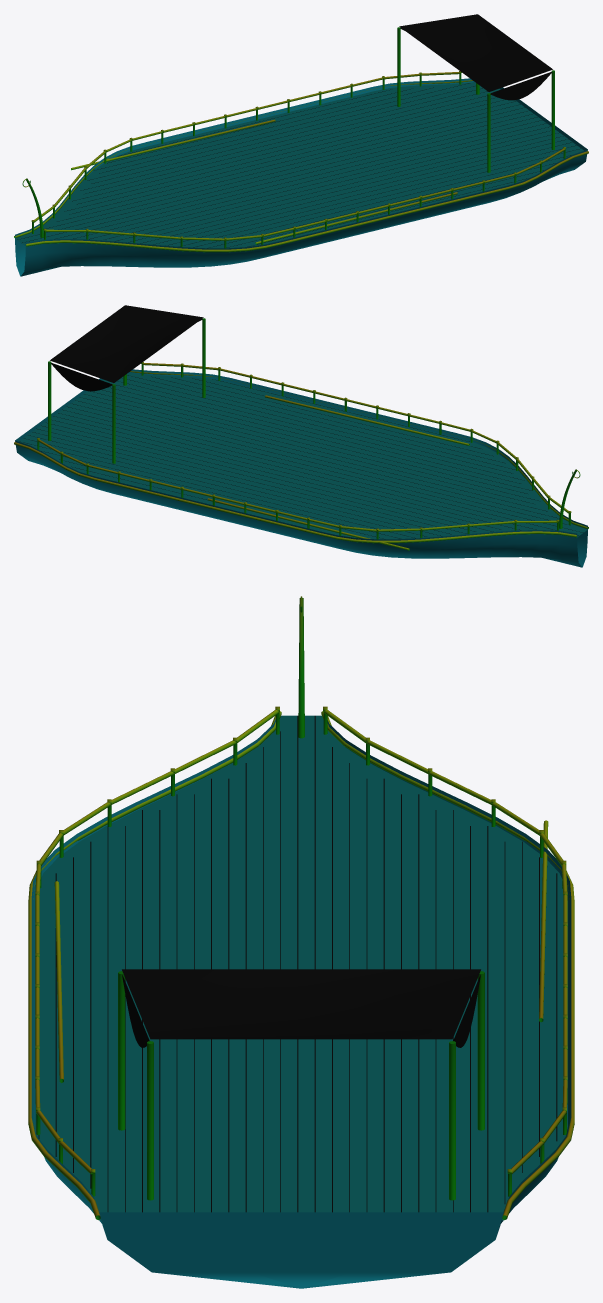
Rendered from bridal_barge_wedding.glb.
The picture shows the model from 3 angles, top to bottom: view 1: azimuth 30°, elevation 25°; view 2: azimuth 150°, elevation 25°; view 3: azimuth 270°, elevation 25°; orthographic projection. The views are drawn at different scales.
Parts seen in each view (by area): view 1: bridal_barge_wedding; view 2: bridal_barge_wedding; view 3: bridal_barge_wedding.
Boxes of the visible parts, x1,y1,x2,y2 form: bridal_barge_wedding: (14,14,588,276); bridal_barge_wedding: (14,305,588,567); bridal_barge_wedding: (28,596,574,1288).
Size of what is drawn, in the model's own units: 16.61 by 3.5 by 7.59.
